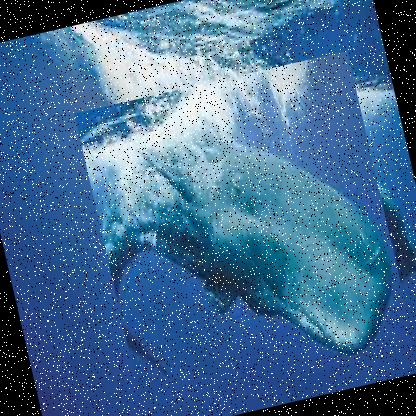blue_whale: (73, 51, 415, 415)
